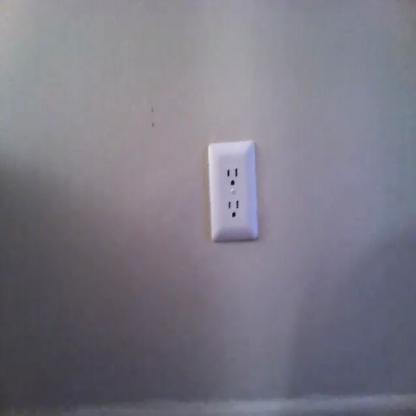OUTLET: (209, 143, 258, 240)
